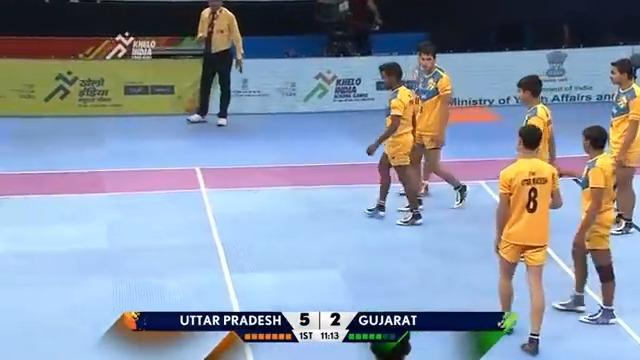Player: (491, 122, 563, 356), (553, 123, 622, 326), (399, 40, 469, 212), (363, 59, 425, 226), (604, 56, 638, 235), (517, 81, 555, 161)
referee: (185, 0, 244, 126)
